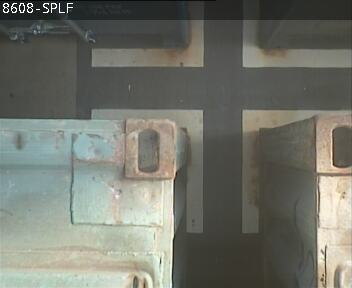groundmarker_1: (91, 109, 319, 234), (92, 1, 352, 68)
